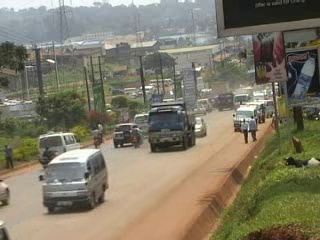Car: (112, 121, 140, 150), (190, 114, 208, 138), (0, 176, 12, 207), (190, 100, 207, 116)
Motorcycle: (39, 145, 57, 170), (129, 123, 144, 151), (90, 124, 103, 150)
